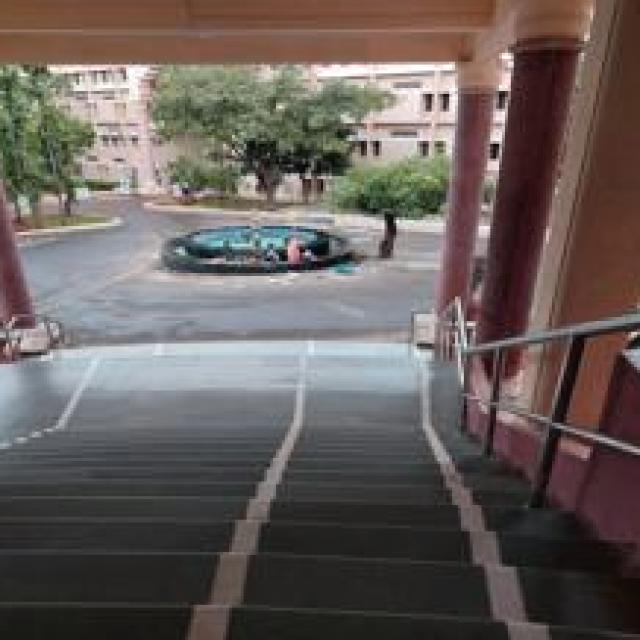downstair: (92, 424, 480, 606)
